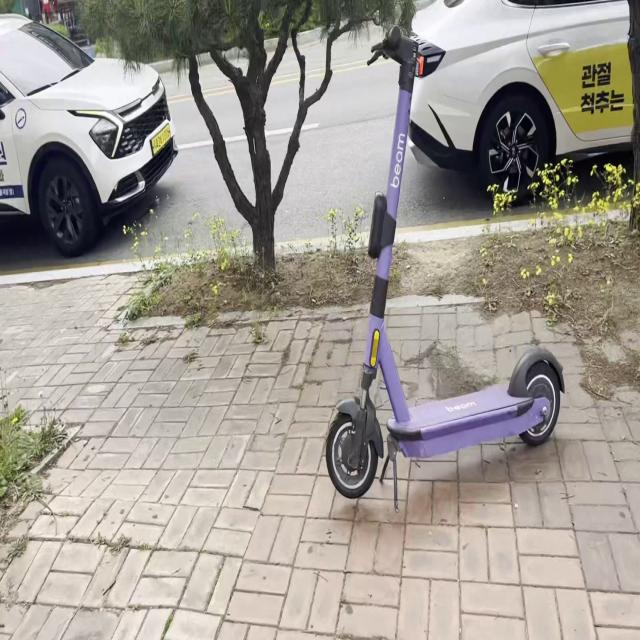kickboard_ok: (325, 376, 562, 499)
